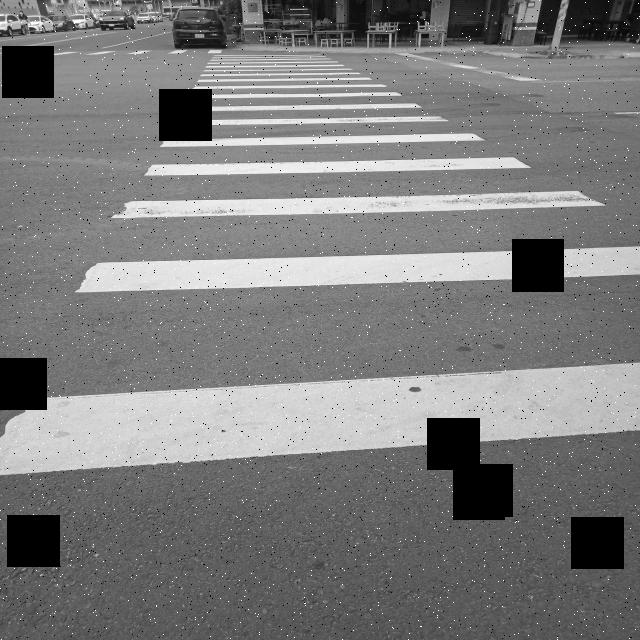zebra crossing: (0, 42, 640, 479), (7, 48, 223, 61)
